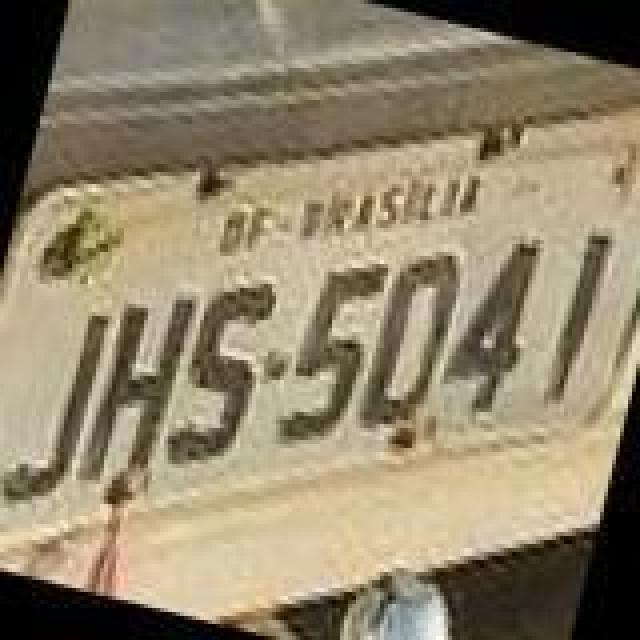1: (538, 224, 614, 416)
4: (438, 228, 554, 420)
5: (266, 244, 390, 460)
H: (74, 280, 198, 504)
J: (0, 298, 112, 518)
O: (348, 236, 468, 444)
S: (160, 266, 288, 486)
